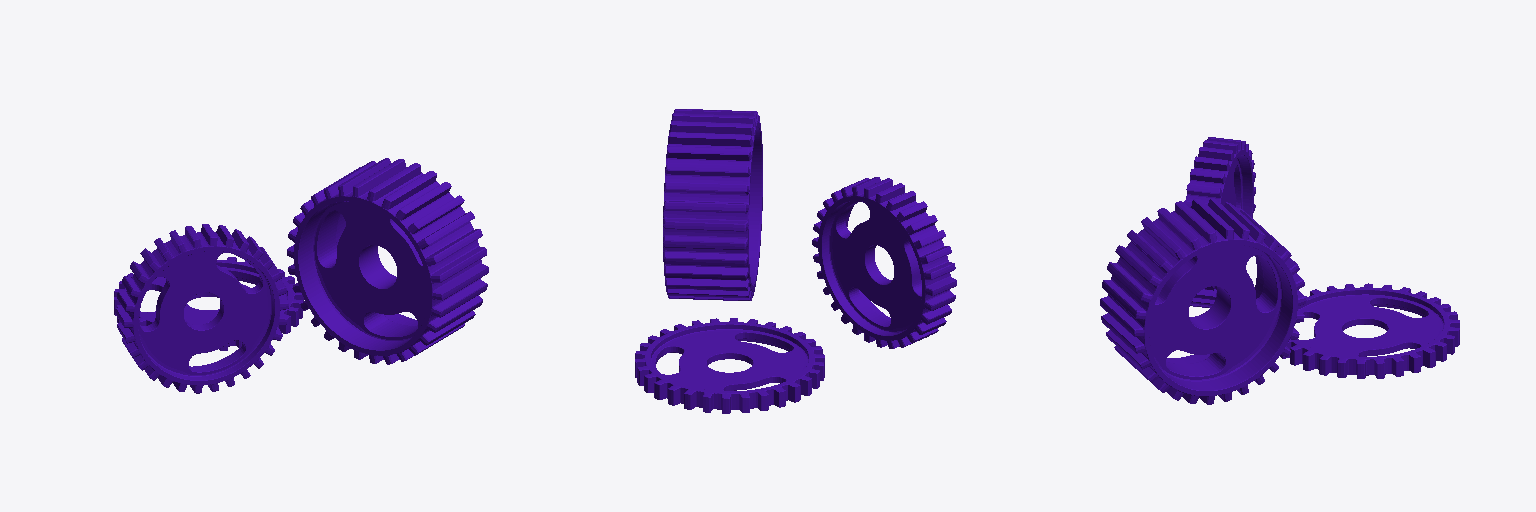
The model's file is Gear.obj.
The picture shows the model from 3 angles: view 1: azimuth 30°, elevation 25°; view 2: azimuth 150°, elevation 25°; view 3: azimuth 270°, elevation 25°; orthographic projection.
Visible parts, largest first — view 1: Cylinder008, Cylinder007, Cylinder006; view 2: Cylinder008, Cylinder007, Cylinder006; view 3: Cylinder008, Cylinder006, Cylinder007.
Part boxes in pixels (left/top/right/bottom): Cylinder008: left=287, top=158, right=488, bottom=364; Cylinder007: left=115, top=224, right=288, bottom=393; Cylinder006: left=114, top=257, right=303, bottom=350; Cylinder008: left=663, top=109, right=762, bottom=300; Cylinder007: left=812, top=177, right=956, bottom=348; Cylinder006: left=635, top=318, right=824, bottom=413; Cylinder008: left=1100, top=198, right=1306, bottom=404; Cylinder006: left=1280, top=283, right=1459, bottom=378; Cylinder007: left=1184, top=137, right=1255, bottom=307.
Bounding box in the file's own units: 47.04 × 24.18 × 45.8.